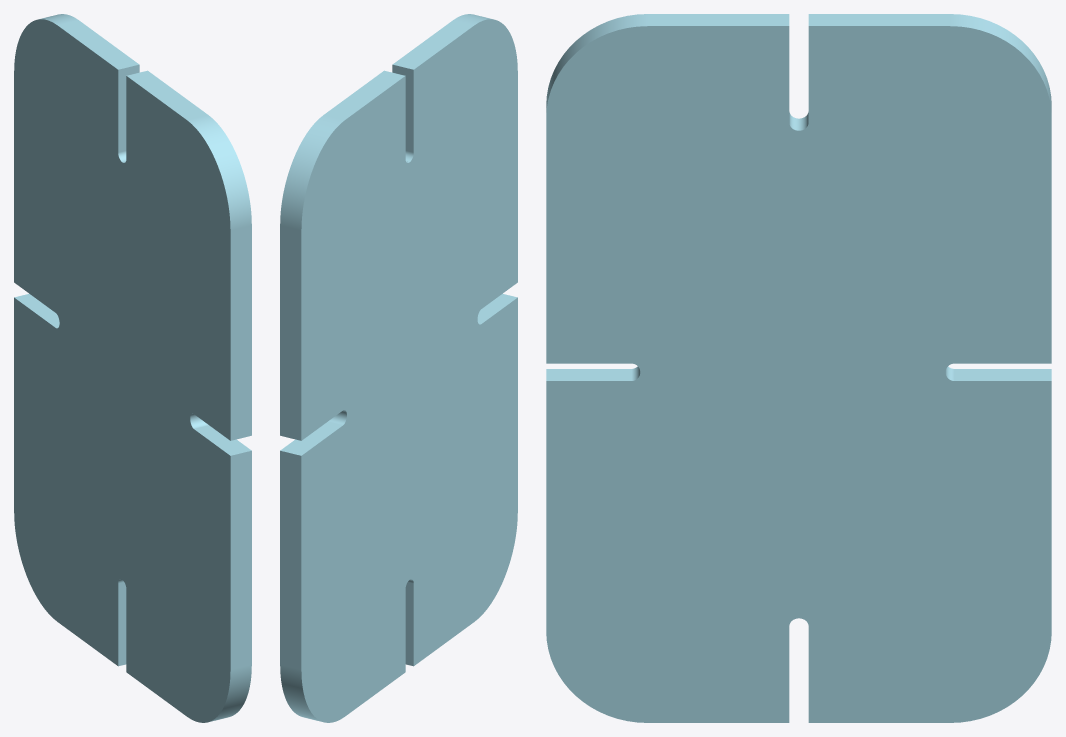
The picture shows the model from 3 angles, left to right: view 1: azimuth 30°, elevation 25°; view 2: azimuth 150°, elevation 25°; view 3: azimuth 270°, elevation 25°; orthographic projection. The views are drawn at different scales.
Visible parts, largest first — view 1: 01; view 2: 01; view 3: 01.
Boxes of the visible parts, x1=… form: 01: x1=14, y1=14, x2=251, y2=722; 01: x1=280, y1=14, x2=517, y2=722; 01: x1=546, y1=14, x2=1051, y2=722.
Bounding box in the file's own units: 4.02 × 107 × 70.62.
